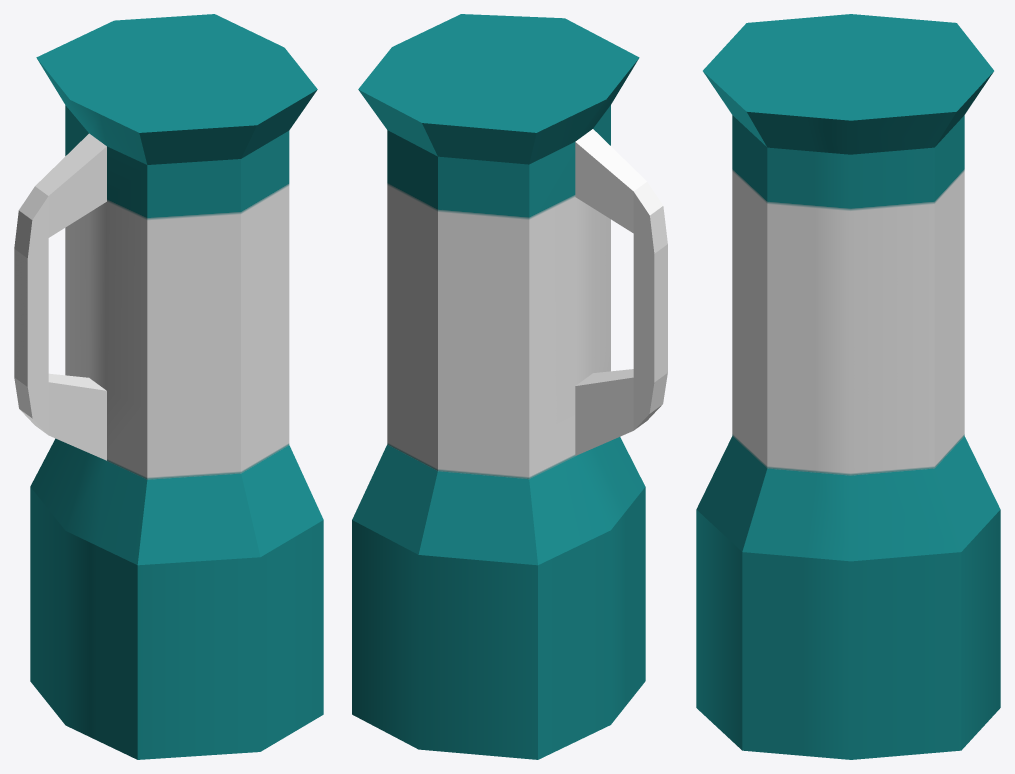
Rendered from Blender.fbx.
3 renders of one model, left to right at view 1: azimuth 30°, elevation 25°; view 2: azimuth 150°, elevation 25°; view 3: azimuth 270°, elevation 25°, orthographic. The views are drawn at different scales.
Parts seen in each view (by area): view 1: Blender; view 2: Blender; view 3: Blender.
Part boxes in pixels (x1,y1,x2,y2): Blender: [14, 14, 323, 759]; Blender: [352, 14, 667, 759]; Blender: [696, 14, 1000, 759].
Size of the model in its own units: 1.46 by 3.21 by 1.39.
